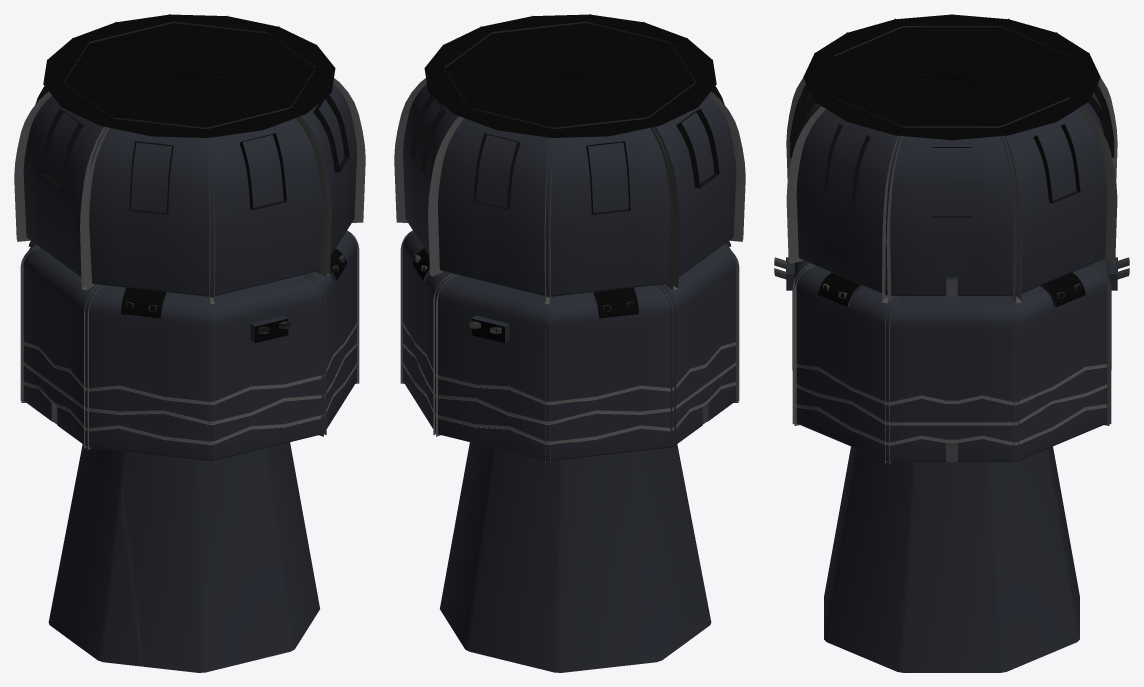
Rendered from RS_flight_room.fbx.
3 views of the same model, side by side, from view 1: azimuth 30°, elevation 25°; view 2: azimuth 150°, elevation 25°; view 3: azimuth 270°, elevation 25° (orthographic).
Visible parts, largest first — view 1: RS_flight_room; view 2: RS_flight_room; view 3: RS_flight_room.
Part boxes in pixels (bbox=[...]): RS_flight_room: bbox=[14, 14, 365, 672]; RS_flight_room: bbox=[394, 14, 745, 672]; RS_flight_room: bbox=[774, 14, 1129, 672].
Bounding box in the file's own units: 3183 × 5751 × 3400.
